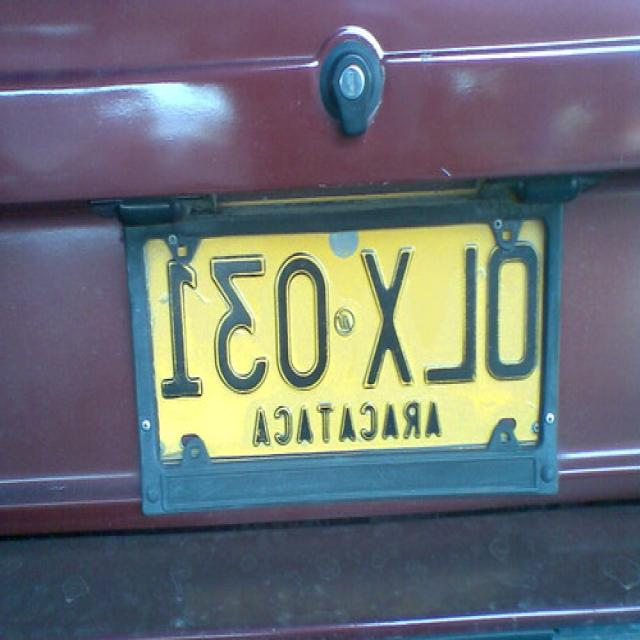placas: (129, 209, 549, 407)
